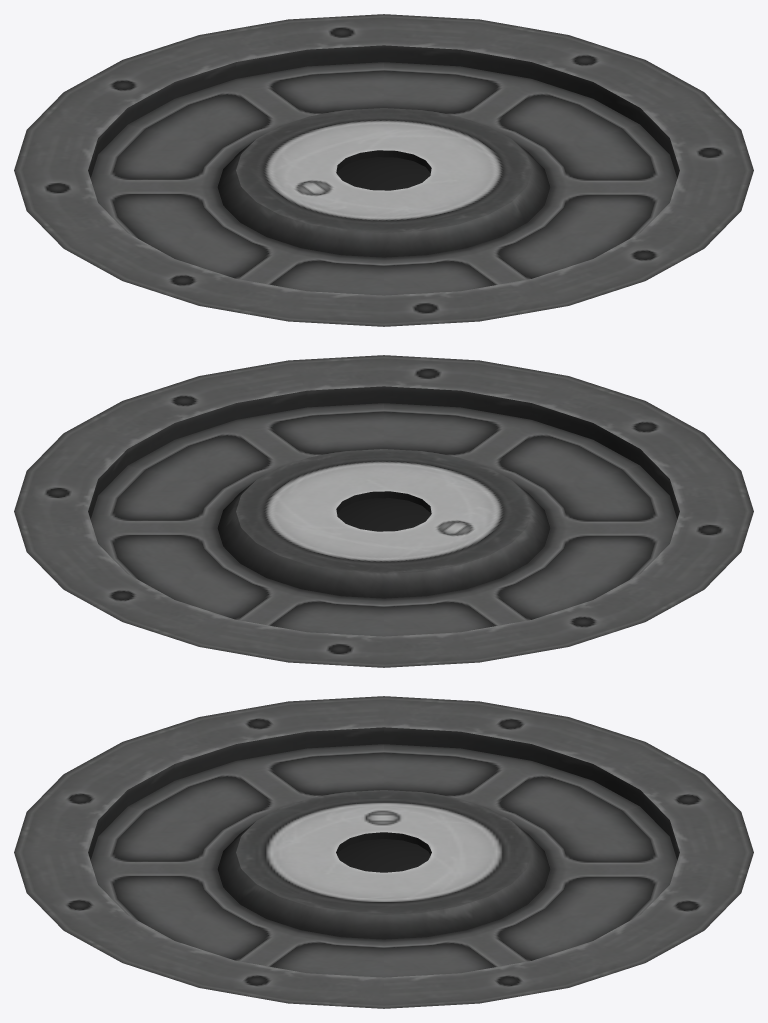
Rendered from end_crew_s1.obj.
3 renders of one model, top to bottom at view 1: azimuth 30°, elevation 25°; view 2: azimuth 150°, elevation 25°; view 3: azimuth 270°, elevation 25°, orthographic.
Parts seen in each view (by area): view 1: end; view 2: end; view 3: end.
Boxes of the visible parts, bbox=[...] form: end: bbox=[14, 14, 753, 326]; end: bbox=[14, 355, 753, 667]; end: bbox=[14, 696, 753, 1008].
Size of the model in its own units: 1.25 by 0.0313 by 1.25.
